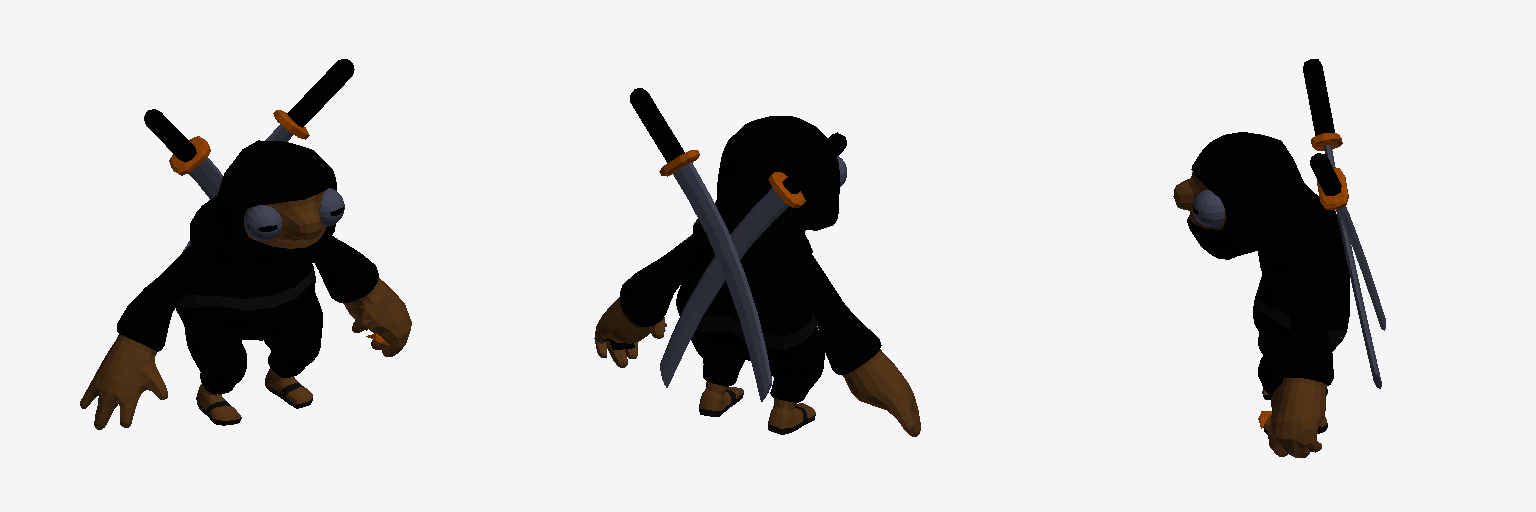
File: ninja.obj
The picture shows the model from 3 angles: view 1: azimuth 30°, elevation 25°; view 2: azimuth 150°, elevation 25°; view 3: azimuth 270°, elevation 25°; orthographic projection.
Parts seen in each view (by area): view 1: Ninja; view 2: Ninja; view 3: Ninja.
Part boxes in pixels (bbox=[...]): Ninja: bbox=[80, 59, 411, 429]; Ninja: bbox=[594, 88, 920, 436]; Ninja: bbox=[1173, 59, 1385, 457].
Size of the model in its own units: 3.13 by 2.9 by 1.8.